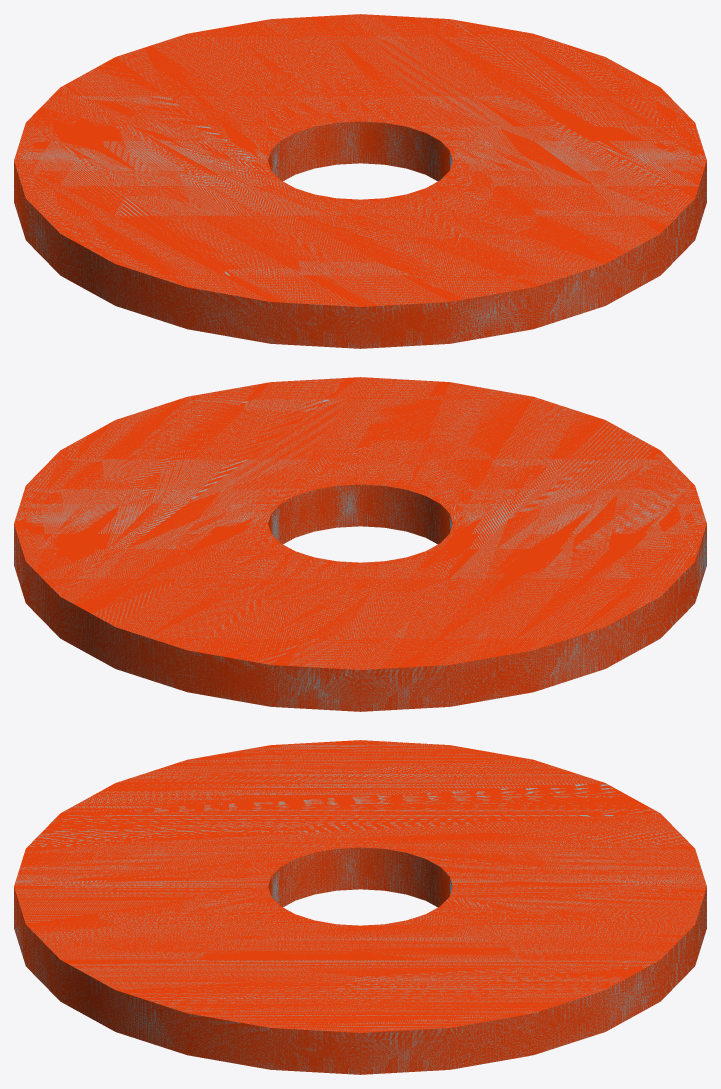
The model's file is disco_1.fbx.
3 views of the same model, one above another, from view 1: azimuth 30°, elevation 25°; view 2: azimuth 150°, elevation 25°; view 3: azimuth 270°, elevation 25° (orthographic).
Visible parts, largest first — view 1: Model; view 2: Model; view 3: Model.
Boxes of the visible parts, x1,y1,x2,y2 form: Model: (14, 14, 706, 348); Model: (14, 377, 706, 711); Model: (14, 740, 706, 1074).
Size of the model in its own units: 3 by 0.2 by 3.
